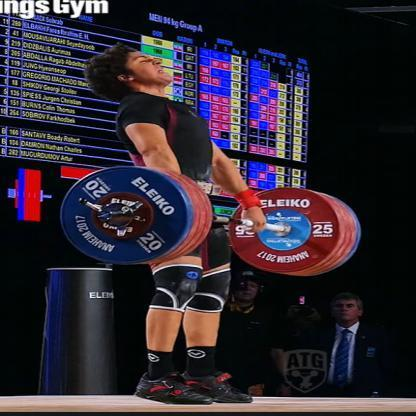barbell: (60, 166, 364, 278)
